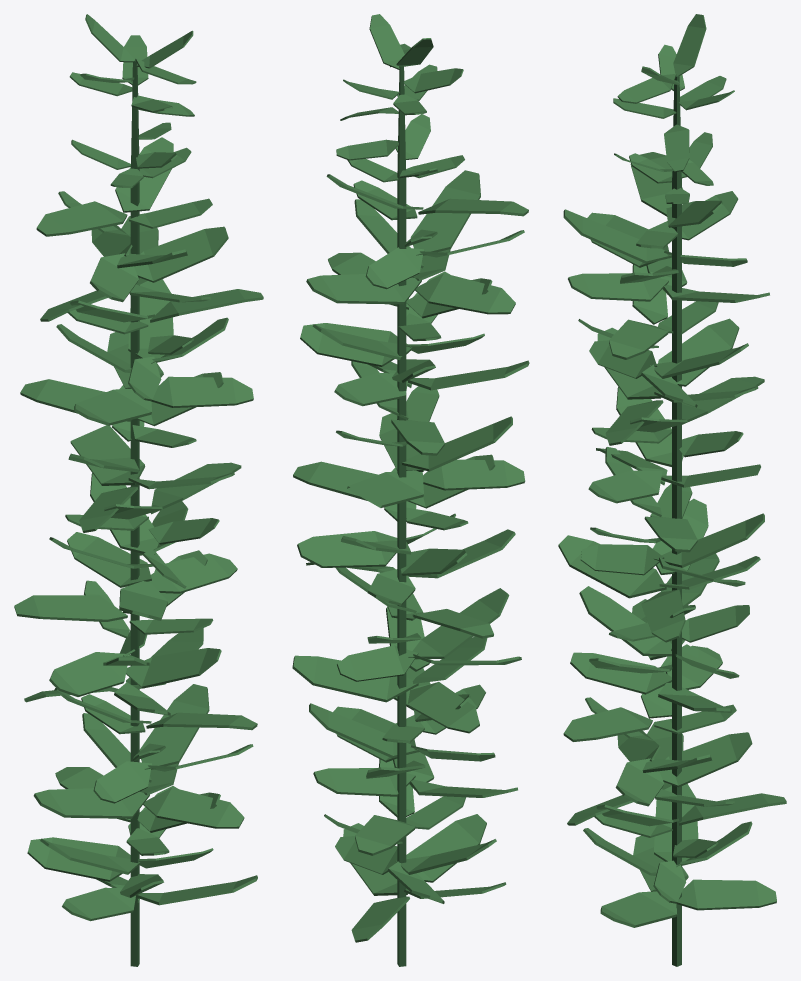
The model's file is Algae-2.glb.
The picture shows the model from 3 angles, left to right: view 1: azimuth 30°, elevation 25°; view 2: azimuth 150°, elevation 25°; view 3: azimuth 270°, elevation 25°; orthographic projection.
Parts seen in each view (by area): view 1: Seaweed_008; view 2: Seaweed_008; view 3: Seaweed_008.
Part boxes in pixels (x1=…): Seaweed_008: x1=14, y1=14, x2=263, y2=966; Seaweed_008: x1=292, y1=14, x2=529, y2=966; Seaweed_008: x1=558, y1=14, x2=786, y2=966.
Size of what is drawn, in the model's own units: 1.06 by 4.47 by 0.9919.
1 material, 1 textured.
